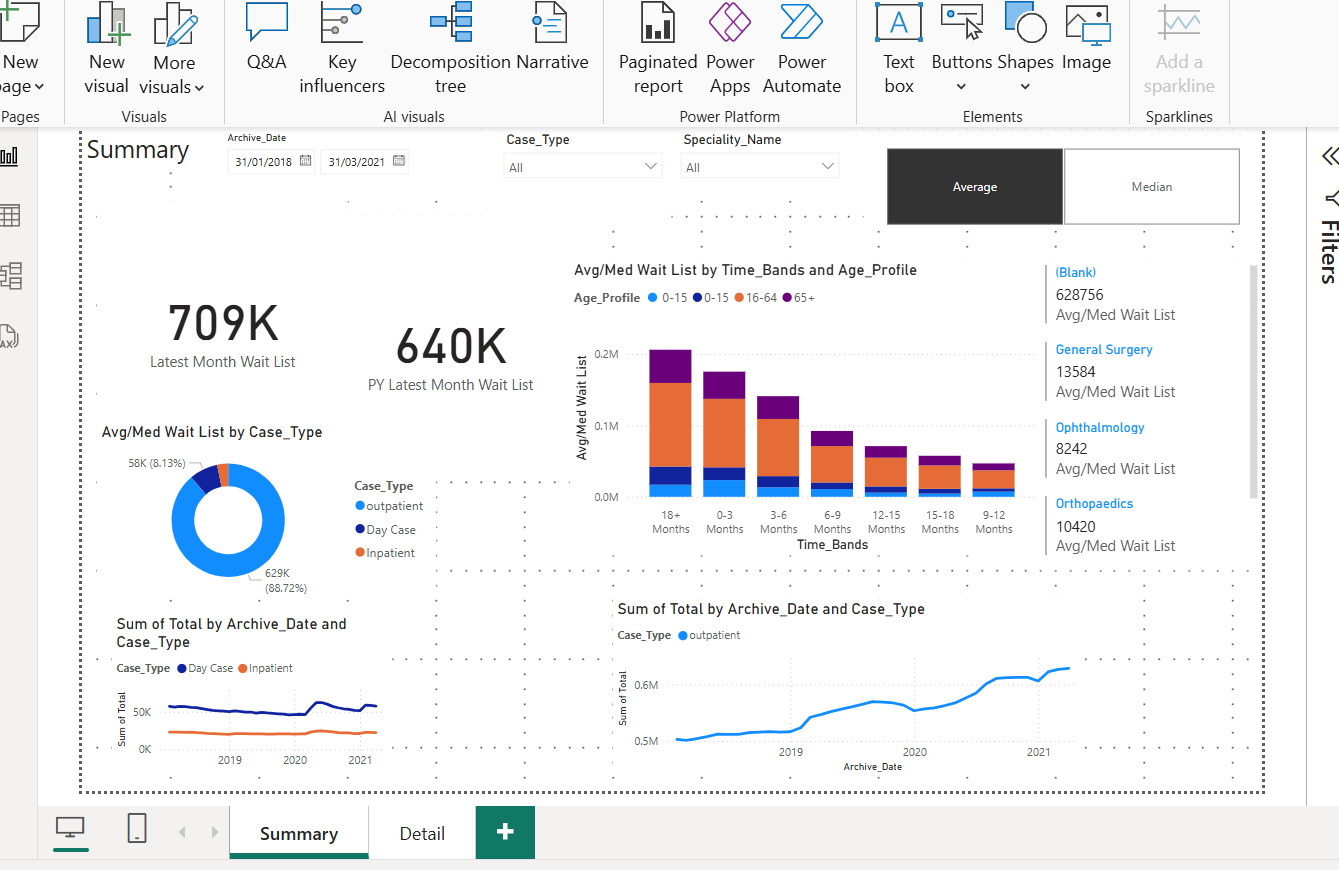

What the dashboard file says about the page in this screenshot:
{"tool":"powerbi","page":{"name":"Summary","canvas":[1280,720],"ordinal":0},"visuals":[{"type":"card","fields":{"Values":["All_Data.Latest Month Wait List"]},"box":[16,80,272,272],"z":0},{"type":"card","fields":{"Values":["All_Data.PY Latest Month Wait List"]},"box":[256,96,288,288],"z":1000},{"type":"slicer","fields":{"Values":["Calculation Method.Calc Method"]},"box":[848,16,432,96],"z":2000},{"type":"donutChart","fields":{"Category":["All_Data.Case_Type"],"Y":["All_Data.Avg/Med Wait List"]},"box":[16,320,368,192],"z":3000},{"type":"multiRowCard","fields":{"Values":["All_Data.Specialty_Name","All_Data.Avg/Med Wait List"]},"box":[1040,144,240,336],"z":4000},{"type":"columnChart","fields":{"Y":["All_Data.Avg/Med Wait List"],"Category":["All_Data.Time_Bands"],"Series":["All_Data.Age_Profile"]},"box":[528,144,512,320],"z":5000},{"type":"lineChart","fields":{"Category":["All_Data.Archive_Date"],"Y":["Sum(All_Data.Total)"],"Series":["All_Data.Case_Type"]},"box":[32,528,304,176],"z":6000},{"type":"lineChart","fields":{"Category":["All_Data.Archive_Date"],"Y":["Sum(All_Data.Total)"],"Series":["All_Data.Case_Type"]},"box":[576,512,512,192],"z":7000},{"type":"slicer","fields":{"Values":["All_Data.Archive_Date"]},"box":[128,0,288,80],"z":8000},{"type":"slicer","fields":{"Values":["All_Data.Case_Type"]},"box":[448,0,192,112],"z":9000},{"type":"slicer","fields":{"Values":["All_Data.Speciality_Name"]},"box":[640,0,192,80],"z":10000},{"type":"textbox","box":[0,0,144,48],"z":11000},{"type":"qnaVisual","box":[1088,512,192,192],"z":11001}]}

Visuals, with their boxes on the page's 1280x720 design canvas (x1, y1, x2, y2). These are canvas units, not pixel positions in the 1339x870 screenshot, which may show the page scaled, cropped or inside an application window:
card - All_Data.Latest Month Wait List: <box>16,80,288,352</box>
card - All_Data.PY Latest Month Wait List: <box>256,96,544,384</box>
slicer - Calculation Method.Calc Method: <box>848,16,1280,112</box>
donutChart - All_Data.Case_Type x All_Data.Avg/Med Wait List: <box>16,320,384,512</box>
multiRowCard - All_Data.Specialty_Name x All_Data.Avg/Med Wait List: <box>1040,144,1280,480</box>
columnChart - All_Data.Avg/Med Wait List x All_Data.Time_Bands: <box>528,144,1040,464</box>
lineChart - All_Data.Archive_Date x Sum(All_Data.Total): <box>32,528,336,704</box>
lineChart - All_Data.Archive_Date x Sum(All_Data.Total): <box>576,512,1088,704</box>
slicer - All_Data.Archive_Date: <box>128,0,416,80</box>
slicer - All_Data.Case_Type: <box>448,0,640,112</box>
slicer - All_Data.Speciality_Name: <box>640,0,832,80</box>
textbox: <box>0,0,144,48</box>
qnaVisual: <box>1088,512,1280,704</box>
